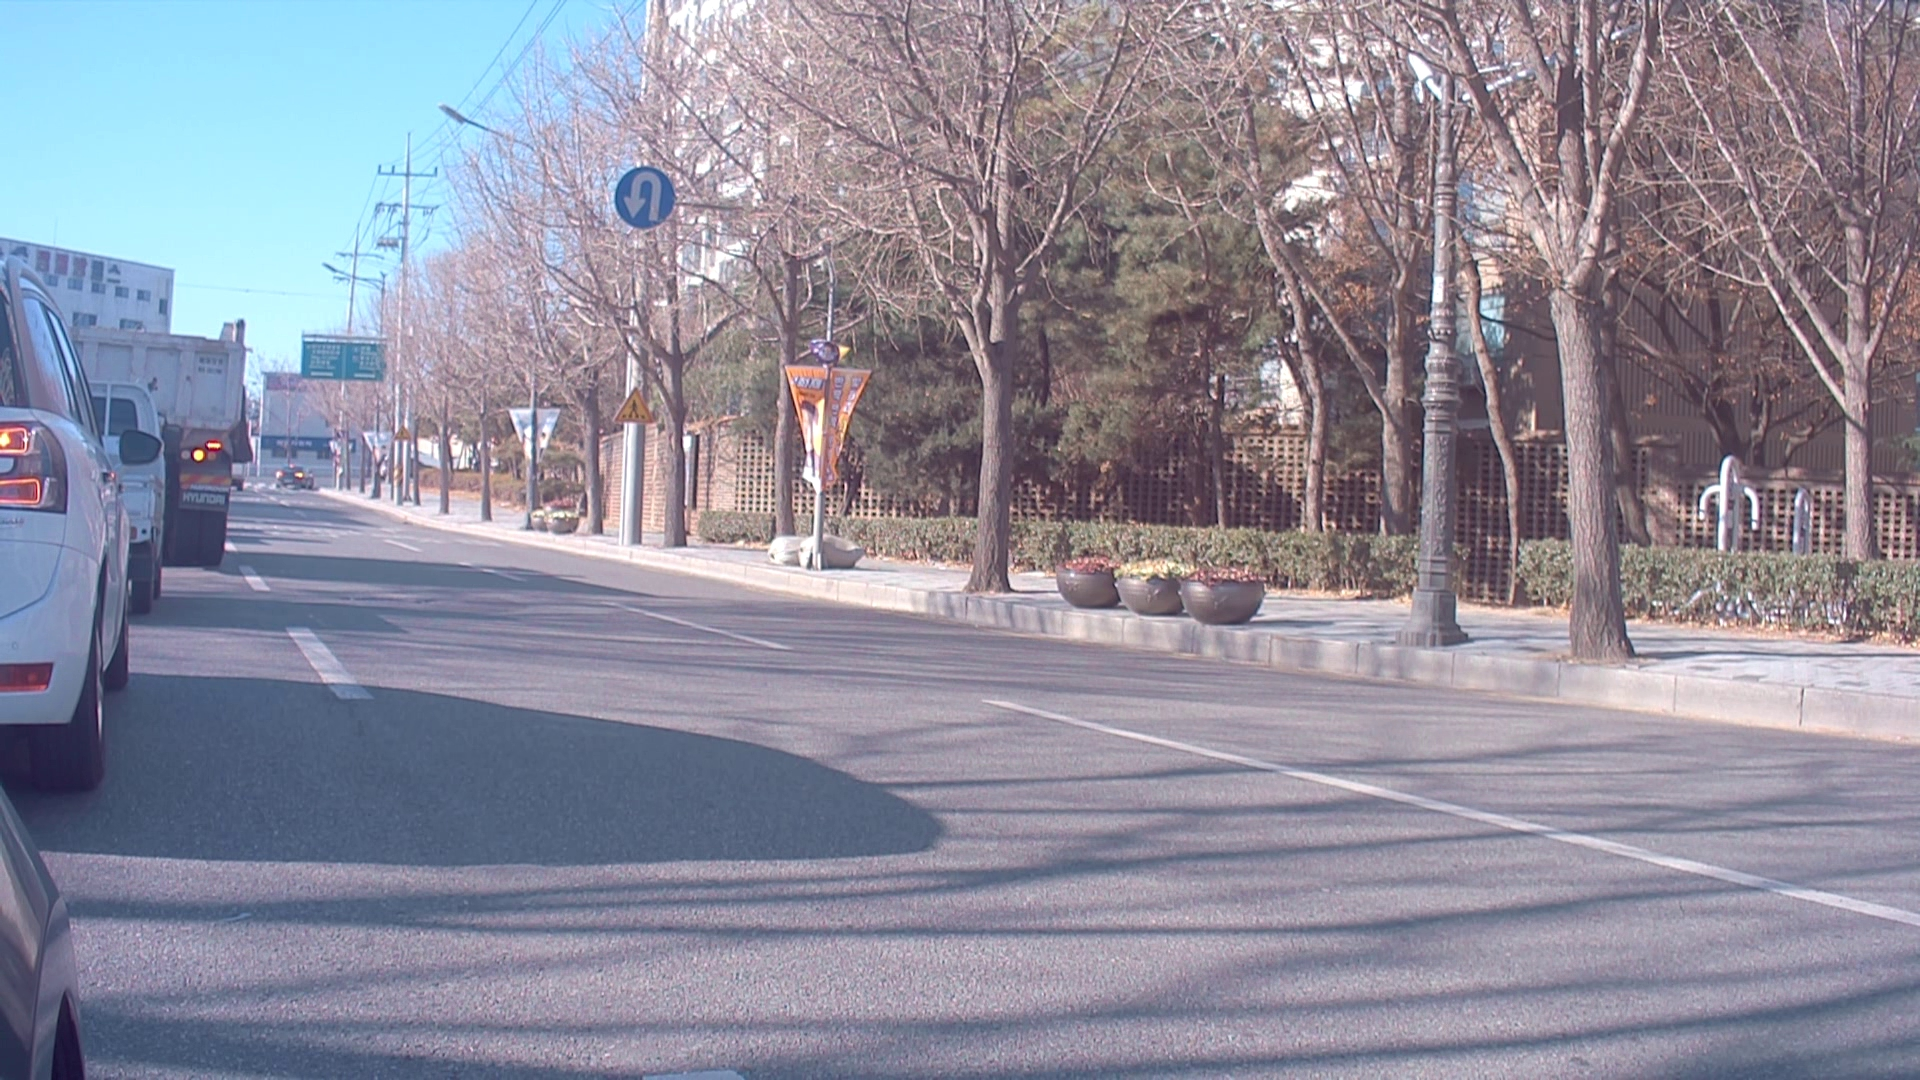trafficSignCircle: (616, 166, 678, 233)
trafficSignTri: (615, 385, 659, 423)
